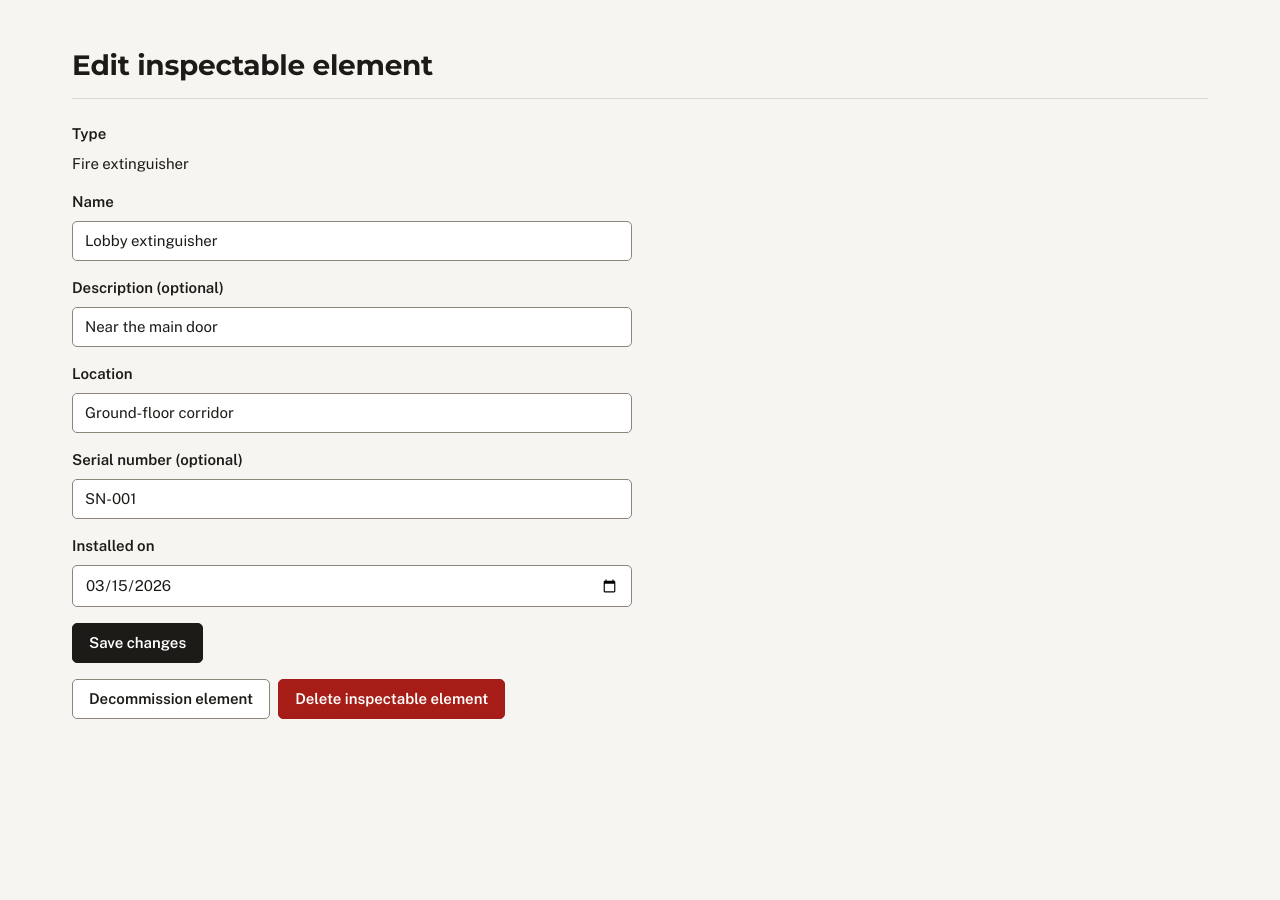
Test: InspectableElementEditPage › shows the generic not-found message when the update is rejected with code: INSPECTABLE_ELEMENT_NOT_FOUND
Click the button with test id "inspectable-element-edit-submit".
click(138, 643)  # box 72,623 -> 203,663
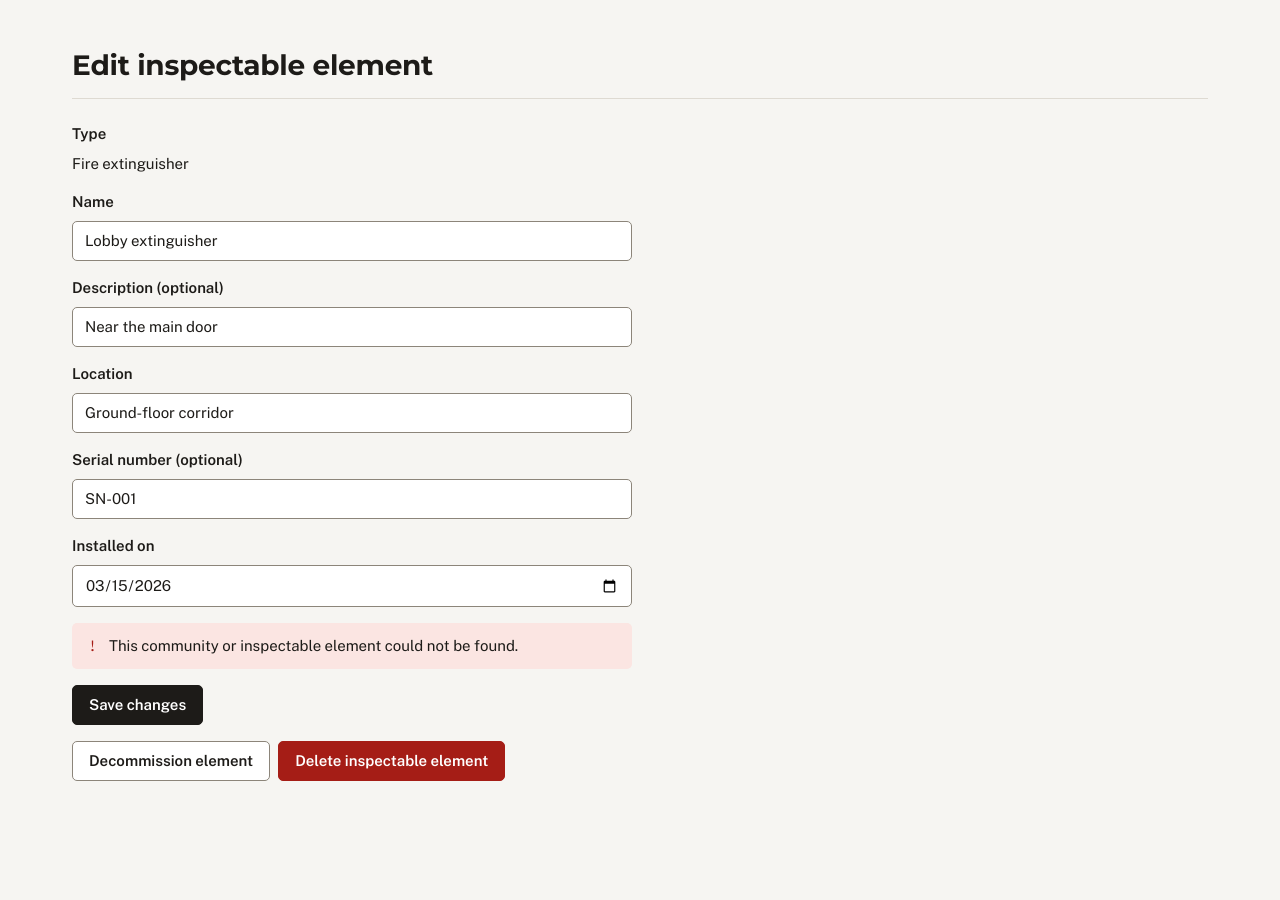
Result: the message with test id "inspectable-element-edit-error" shows "This community or inspectable element could not be found." at 109,637 -> 518,654
